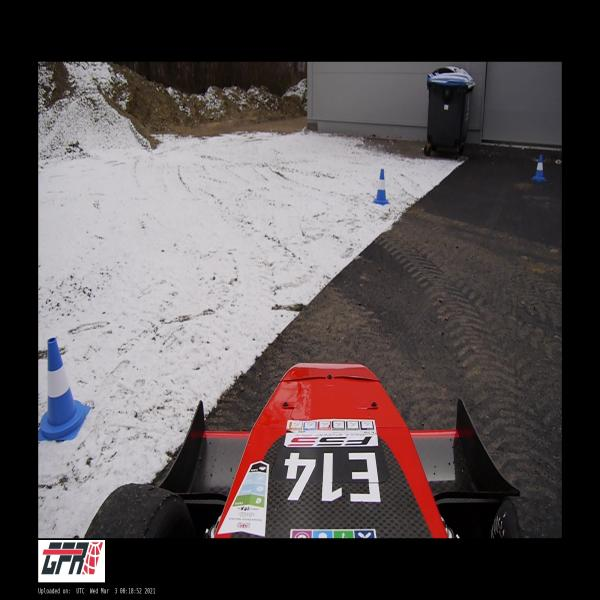blue_cone: (38, 338, 91, 440), (374, 169, 390, 204), (531, 154, 547, 182)
